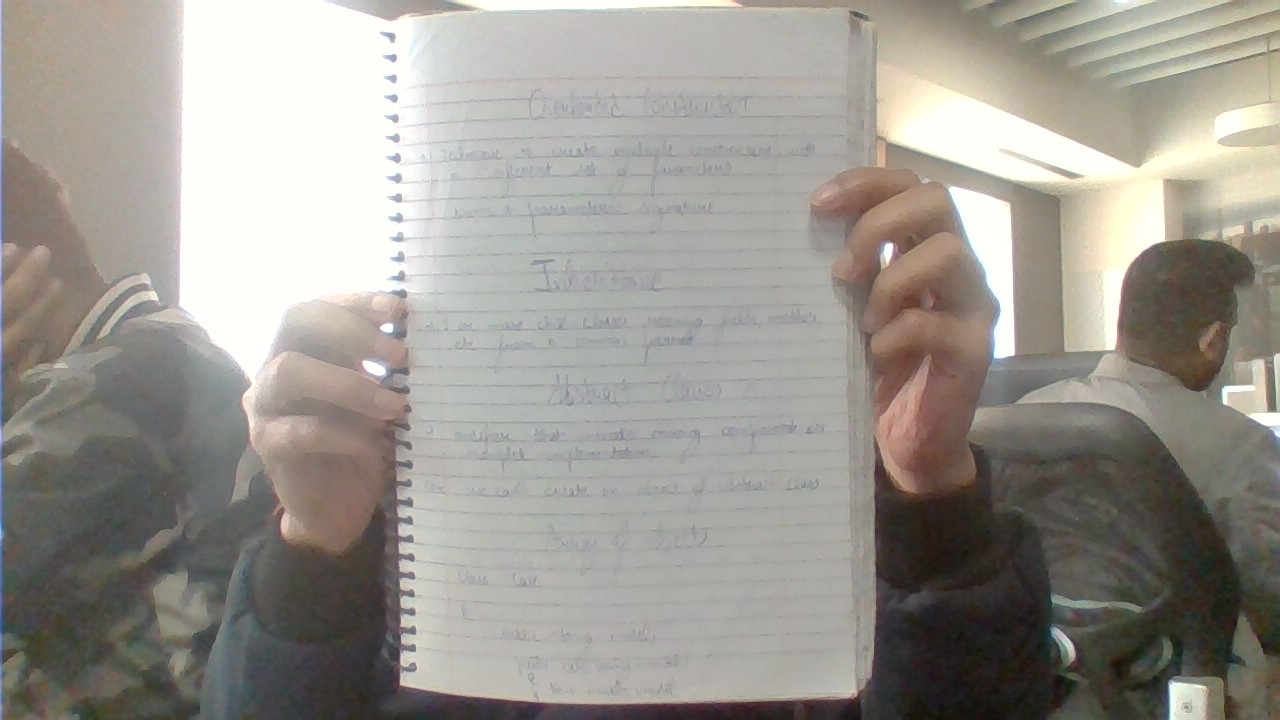notebook: (376, 5, 888, 708)
